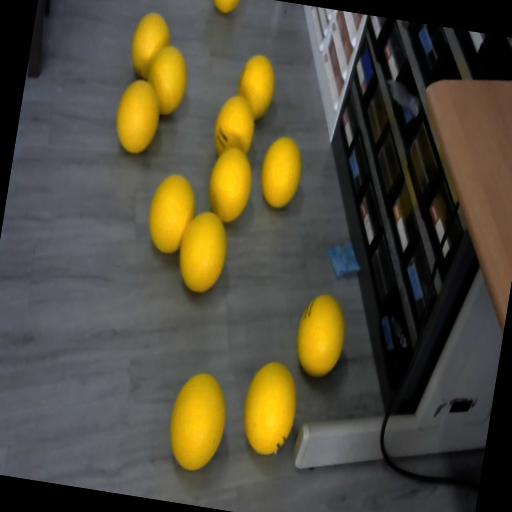FUEL: (162, 367, 232, 472), (236, 356, 304, 458), (290, 290, 350, 380), (173, 206, 232, 294), (142, 168, 200, 257), (203, 144, 257, 224), (111, 76, 165, 156), (256, 133, 306, 211), (126, 9, 174, 82), (234, 51, 280, 121), (208, 0, 242, 15)
